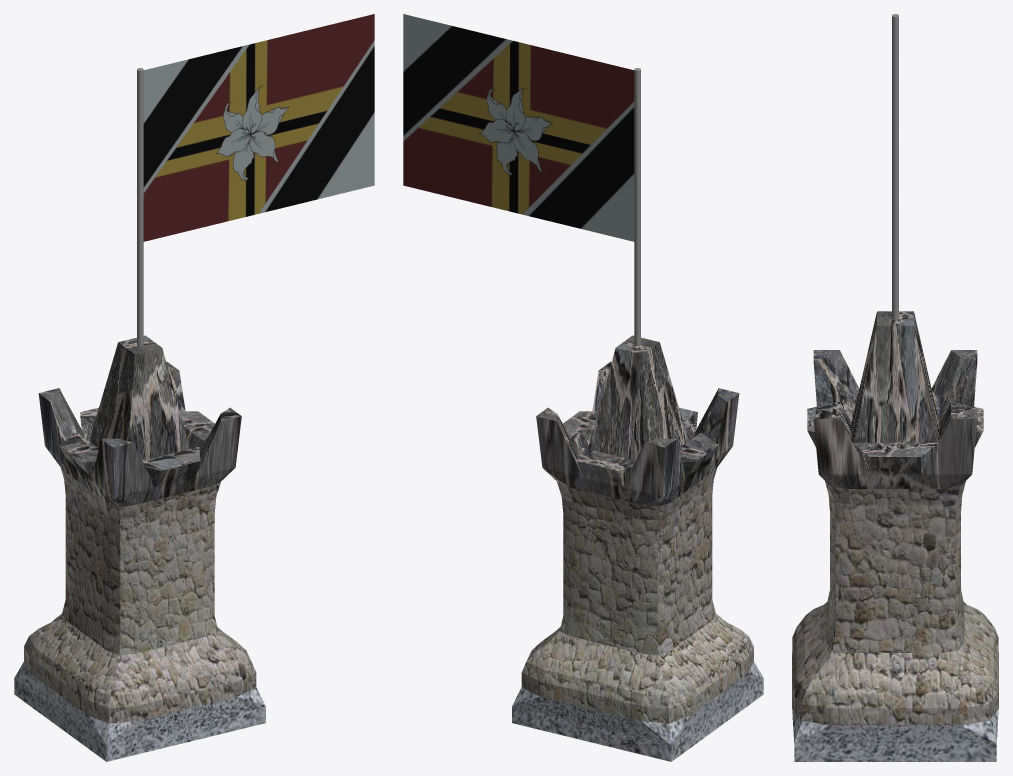
Rendered from RedTower.FBX.
The picture shows the model from 3 angles, left to right: view 1: azimuth 30°, elevation 25°; view 2: azimuth 150°, elevation 25°; view 3: azimuth 270°, elevation 25°; orthographic projection. The views are drawn at different scales.
Visible parts, largest first — view 1: Box001, Box002, Cylinder001; view 2: Box001, Box002, Cylinder001; view 3: Box001, Cylinder001.
Part boxes in pixels (x1,y1,x2,y2): Box001: (14,335,265,761); Box002: (143,14,374,241); Cylinder001: (137,68,143,346); Box001: (512,335,763,761); Box002: (403,14,634,241); Cylinder001: (634,68,640,346); Box001: (792,311,998,761); Cylinder001: (892,14,898,320).
Size of the model in its own units: 13.47 by 26.09 by 6.94.
3 materials, 2 textured.
